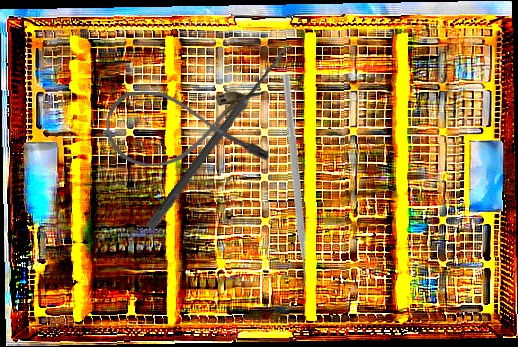Cannula: (105, 89, 269, 167)
Chopper: (182, 72, 398, 298)
Surgical Spoon: (145, 41, 293, 232)
